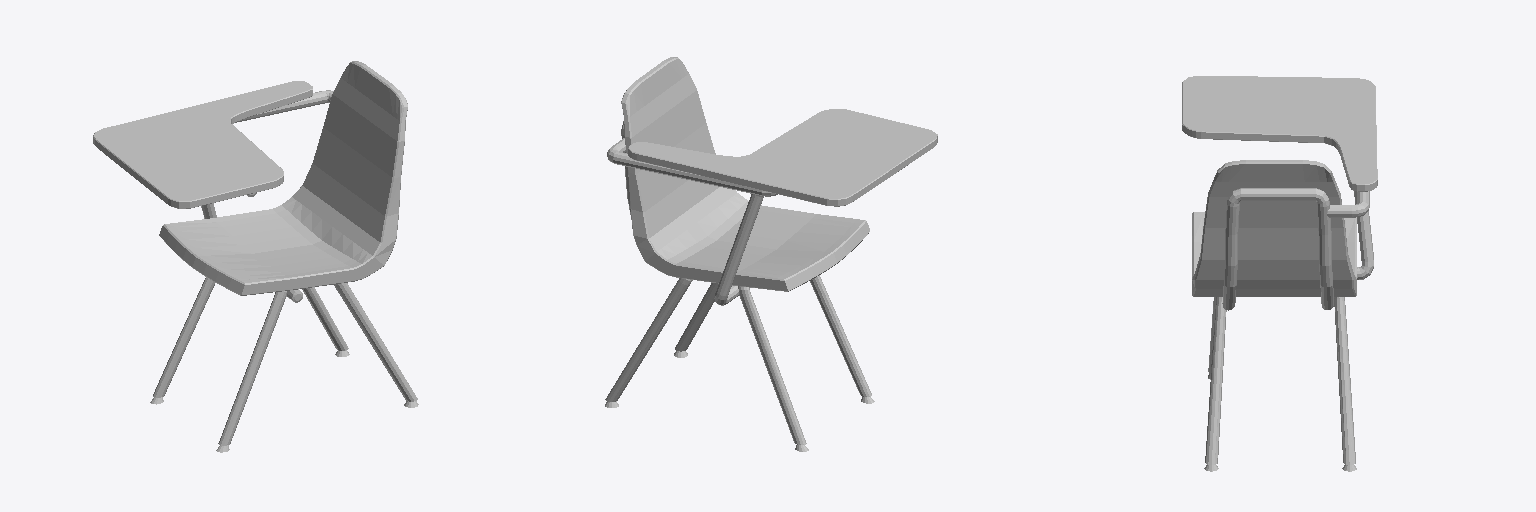
File: ClassromChair.obj
3 views of the same model, side by side, from view 1: azimuth 30°, elevation 25°; view 2: azimuth 150°, elevation 25°; view 3: azimuth 270°, elevation 25° (orthographic).
Parts seen in each view (by area): view 1: Chair; view 2: Chair; view 3: Chair.
Boxes of the visible parts, x1=… form: Chair: x1=93, y1=61, x2=418, y2=452; Chair: x1=605, y1=57, x2=937, y2=451; Chair: x1=1182, y1=76, x2=1377, y2=471.
Bounding box in the file's own units: 9.61 × 11.04 × 6.38.